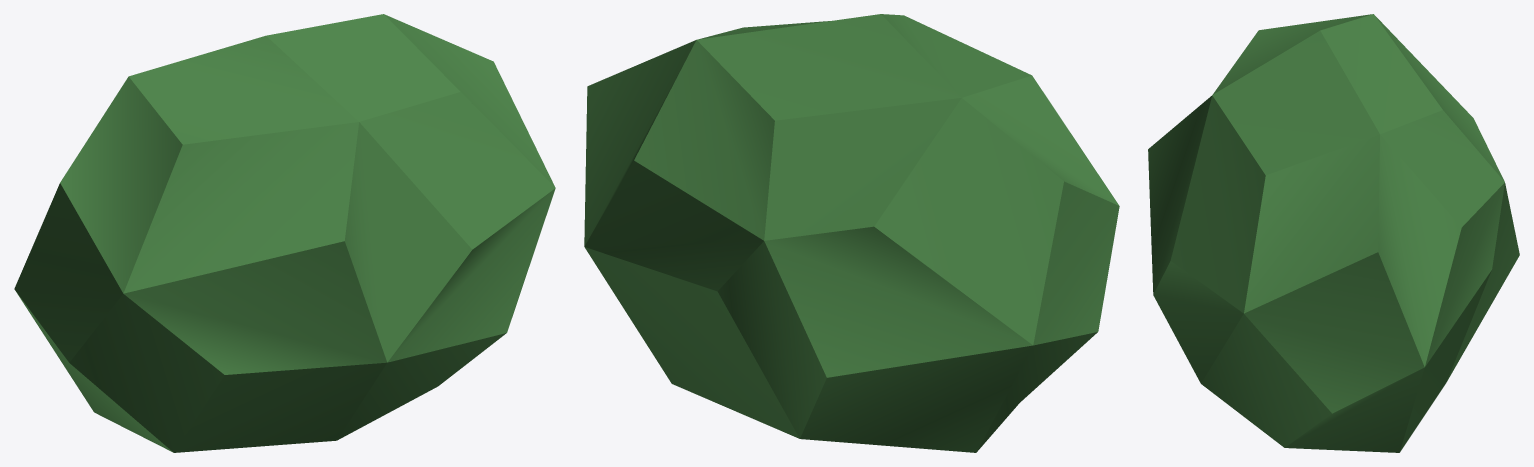
Rendered from Shrub.fbx.
3 renders of one model, left to right at view 1: azimuth 30°, elevation 25°; view 2: azimuth 150°, elevation 25°; view 3: azimuth 270°, elevation 25°, orthographic. The views are drawn at different scales.
Parts seen in each view (by area): view 1: polySurface21; view 2: polySurface21; view 3: polySurface21.
Boxes of the visible parts, bbox=[...] form: polySurface21: bbox=[14, 14, 555, 452]; polySurface21: bbox=[584, 14, 1119, 452]; polySurface21: bbox=[1148, 14, 1519, 452].
Bounding box in the file's own units: 1.12 × 0.8623 × 0.8349.
